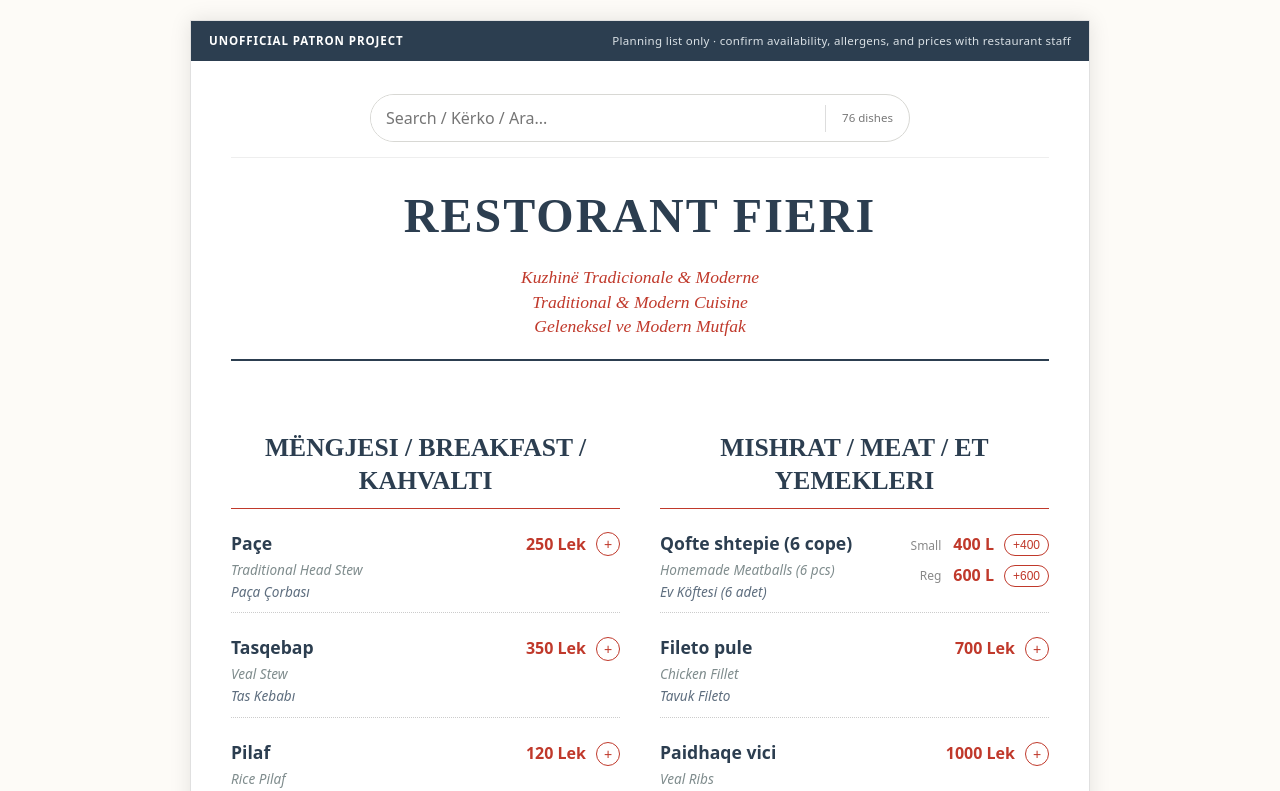
Test: unofficial menu behavior › maintains an accurate planning list and presents it as a focus-managed dialog
Click the button named "Add Traditional Head Stew to planning list" at [608, 544], box [596,532,620,556]
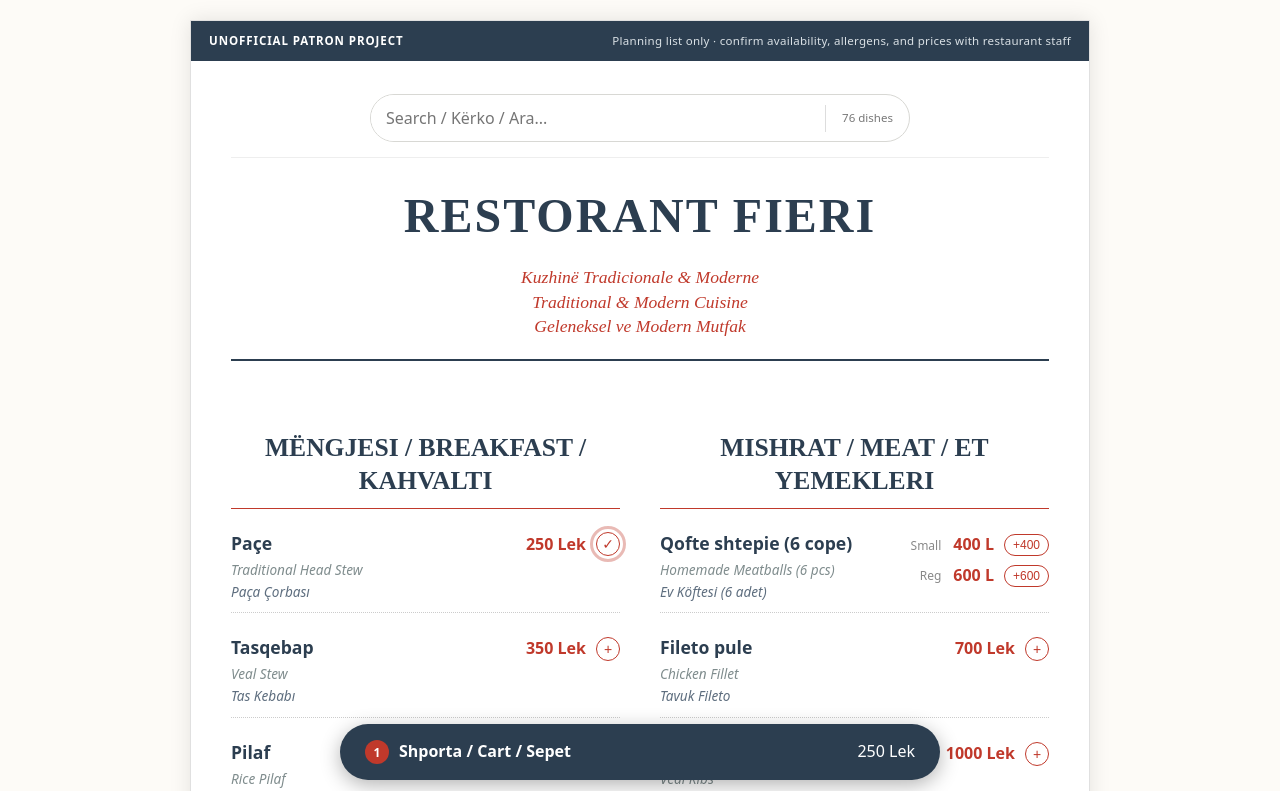
Click the button with aria-label "Open planning list: 1 item, 250 Lek" at [485, 751], box [340,724,940,780]
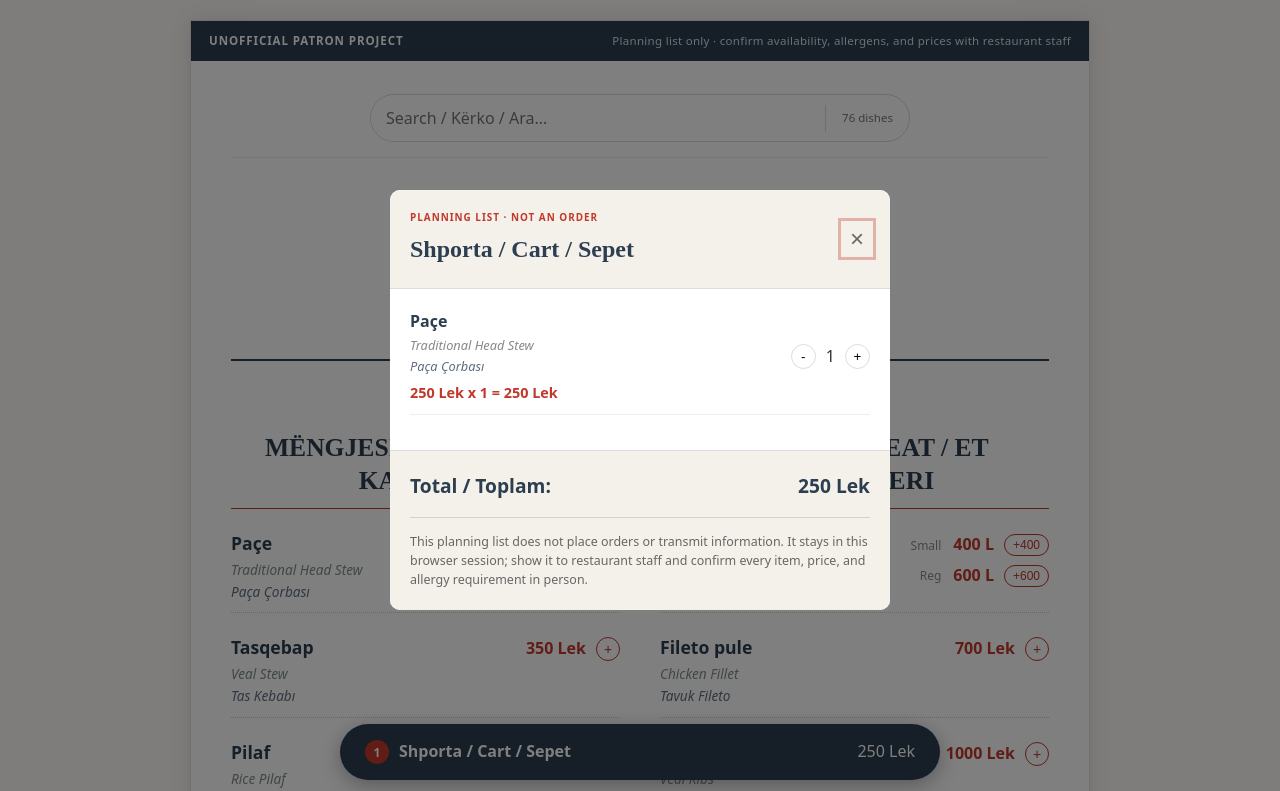
Check: the dialog "Shporta / Cart / Sepet" is shown, box [390,190,890,610]
Check: the dialog "Shporta / Cart / Sepet" shows "Planning list · not an order", box [410,210,598,224]
Check: the dialog "Shporta / Cart / Sepet" shows "does not place orders", box [410,533,868,588]
Click the button named "Increase Traditional Head Stew" at [858, 357], box [845,344,870,369]
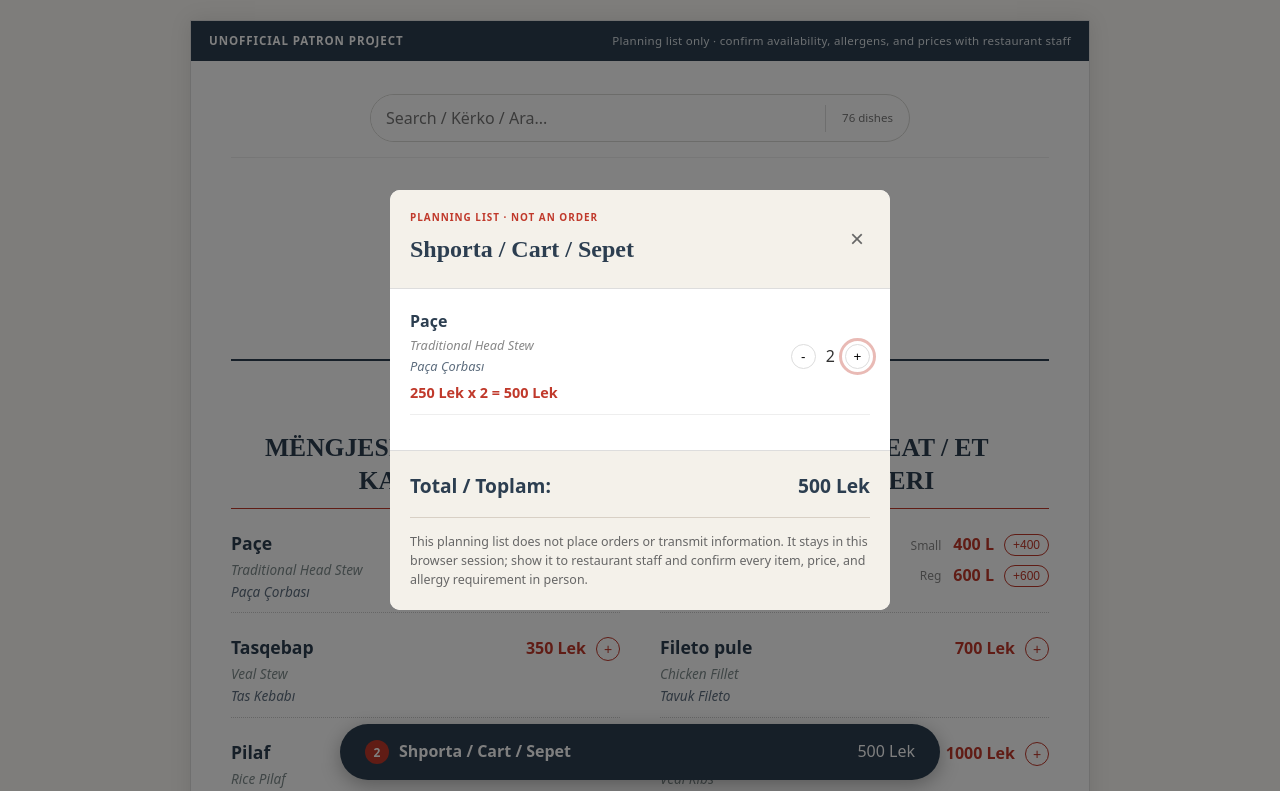
Check: the dialog "Shporta / Cart / Sepet" shows "250 Lek x 2 = 500 Lek", box [390,190,890,610]
Check: the dialog "Shporta / Cart / Sepet" shows "500 Lek", box [390,190,890,610]
Press Escape
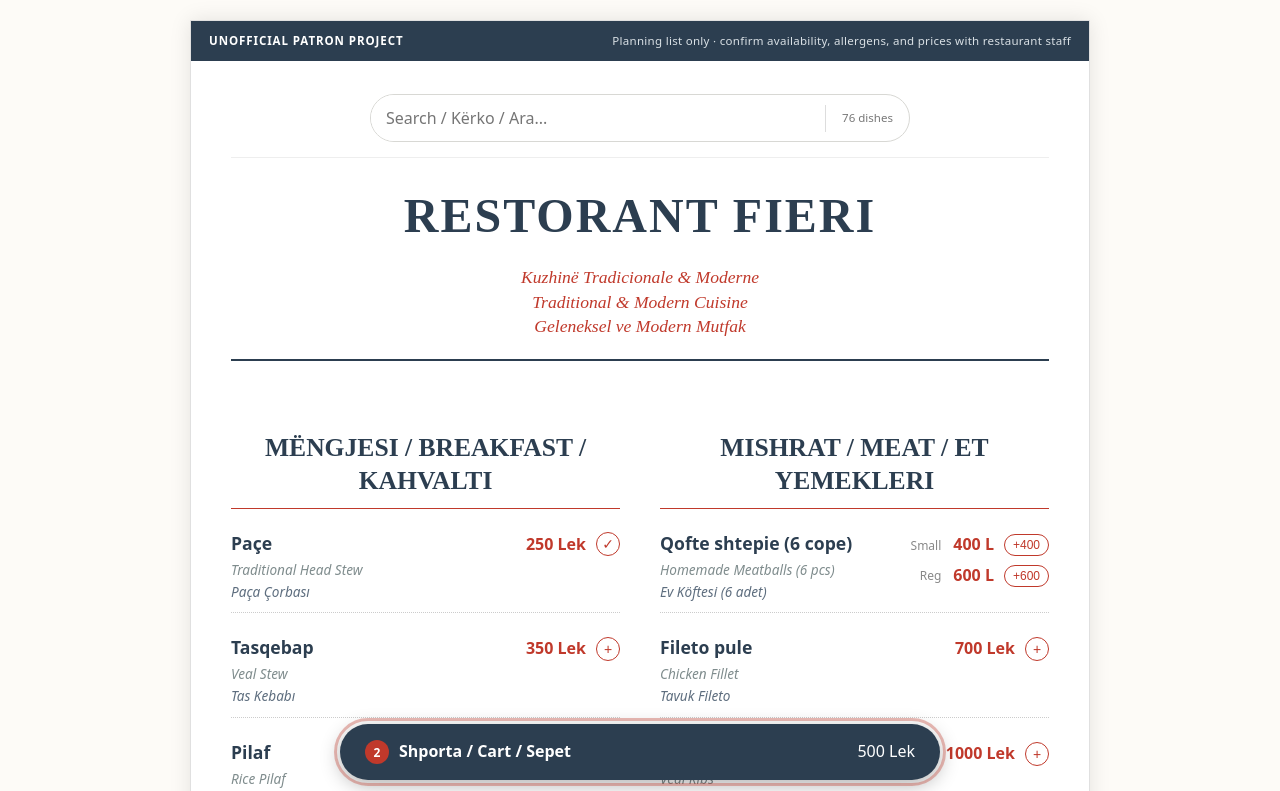
Check: the dialog is gone
